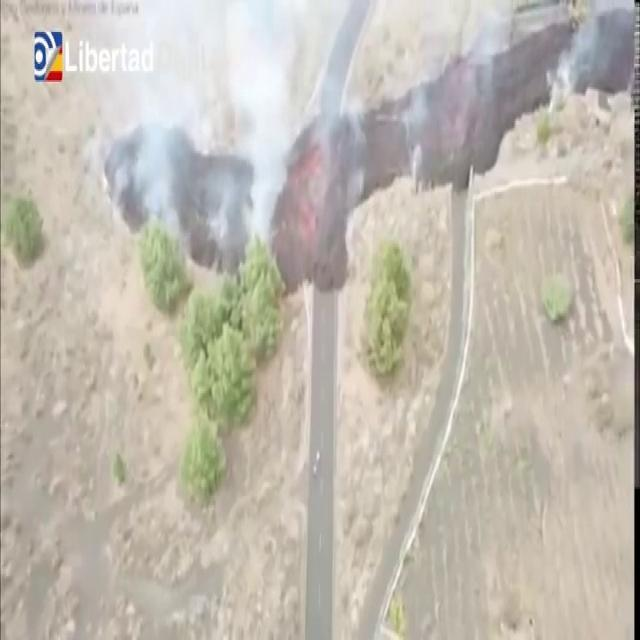Smoke: (111, 0, 363, 261)
